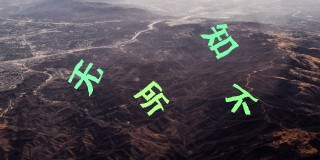不: (225, 83, 259, 115)
所: (133, 80, 169, 117)
无: (68, 59, 104, 97)
知: (201, 24, 239, 59)
